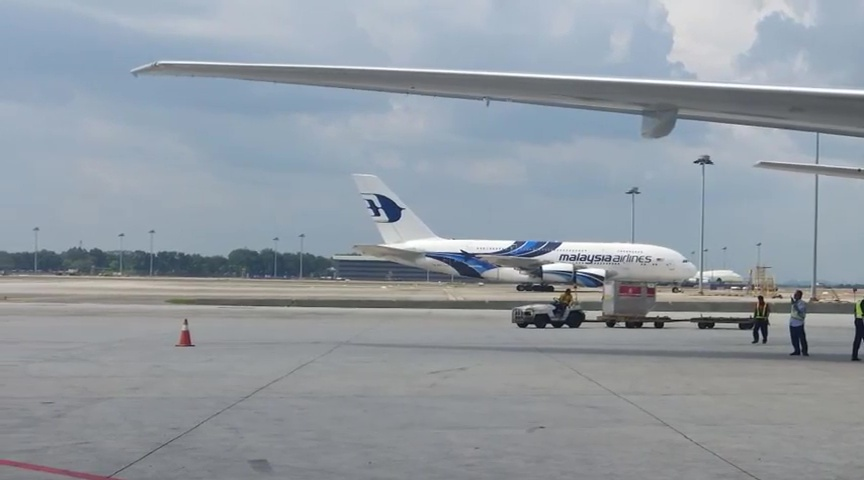safety_cone: (173, 317, 195, 349)
